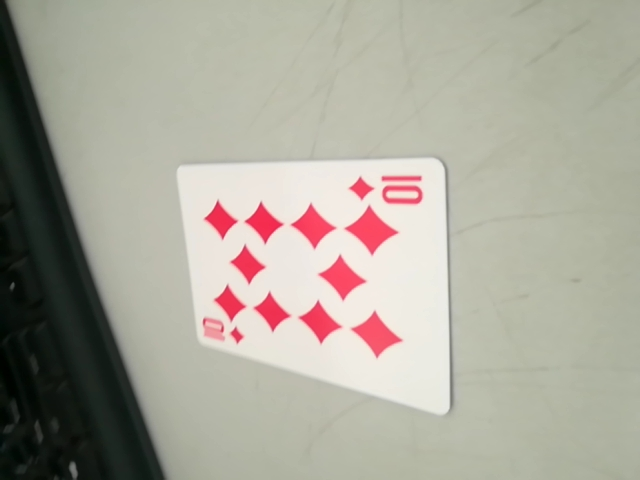fk 10: (348, 164, 431, 209), (201, 312, 253, 352)
